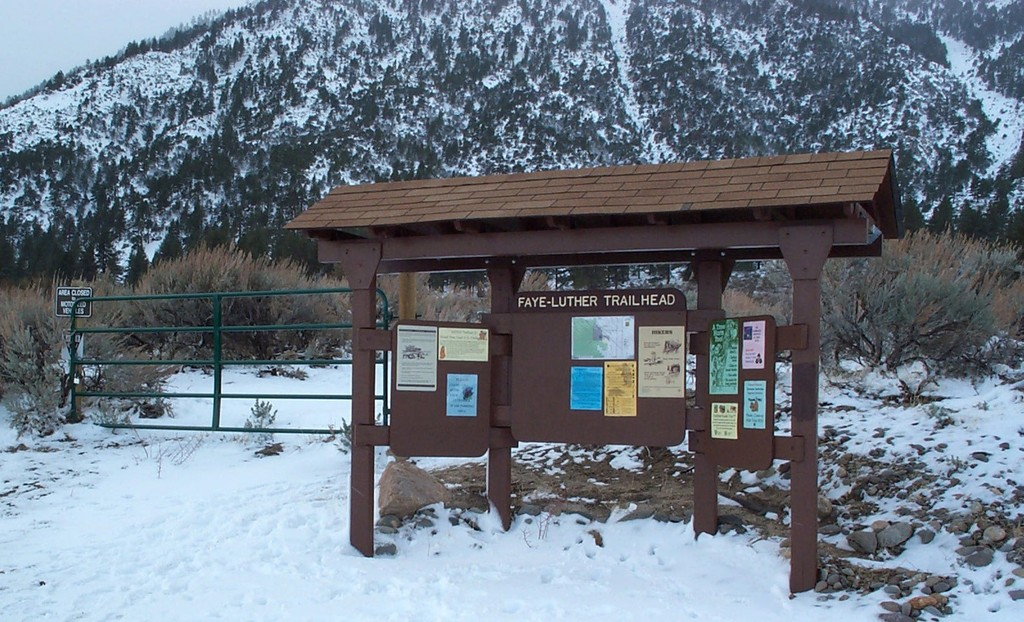Tree: (0, 0, 1024, 291), (0, 223, 1024, 419)
